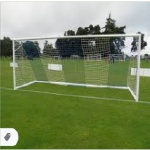goals: (11, 34, 141, 103)
